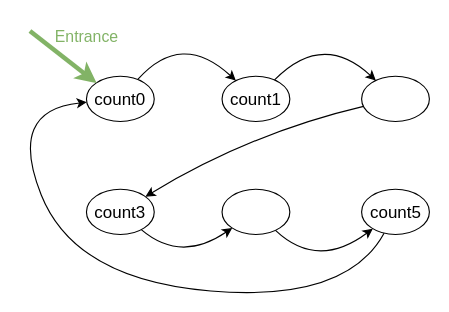
Some shapes in this 449 by 312 pixel diagram are drawn without their labels. Here are the shapes that lost their labels. From the top down, the centre of each, then its label:
At point (394, 98): "count2".
At point (255, 211): "count4".
